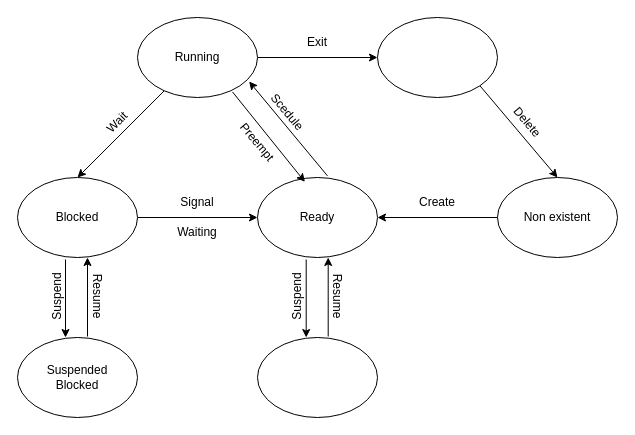
The diagram is 635 pixels wide and 435 high, and some of its shapes have lost their labels. Each missing label, with the box of its shape:
Suspended Ready: (256, 336, 378, 418)
Zombie: (376, 16, 498, 98)
